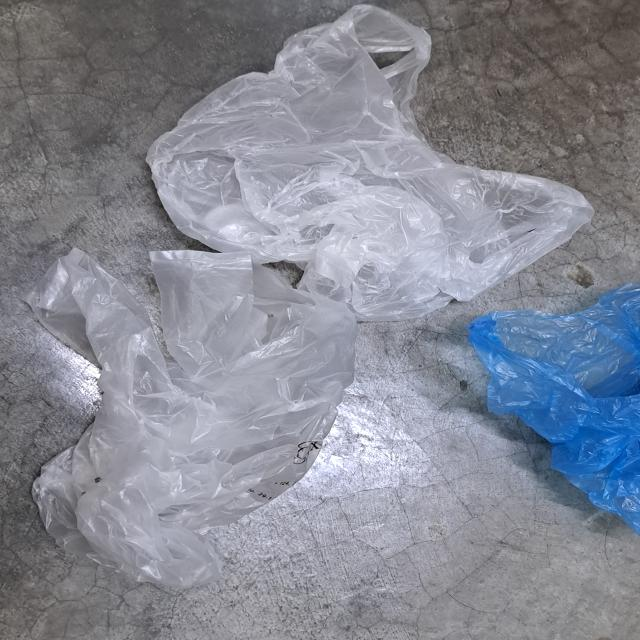plastic bag: (141, 0, 595, 310), (42, 234, 362, 583), (466, 282, 640, 536)
